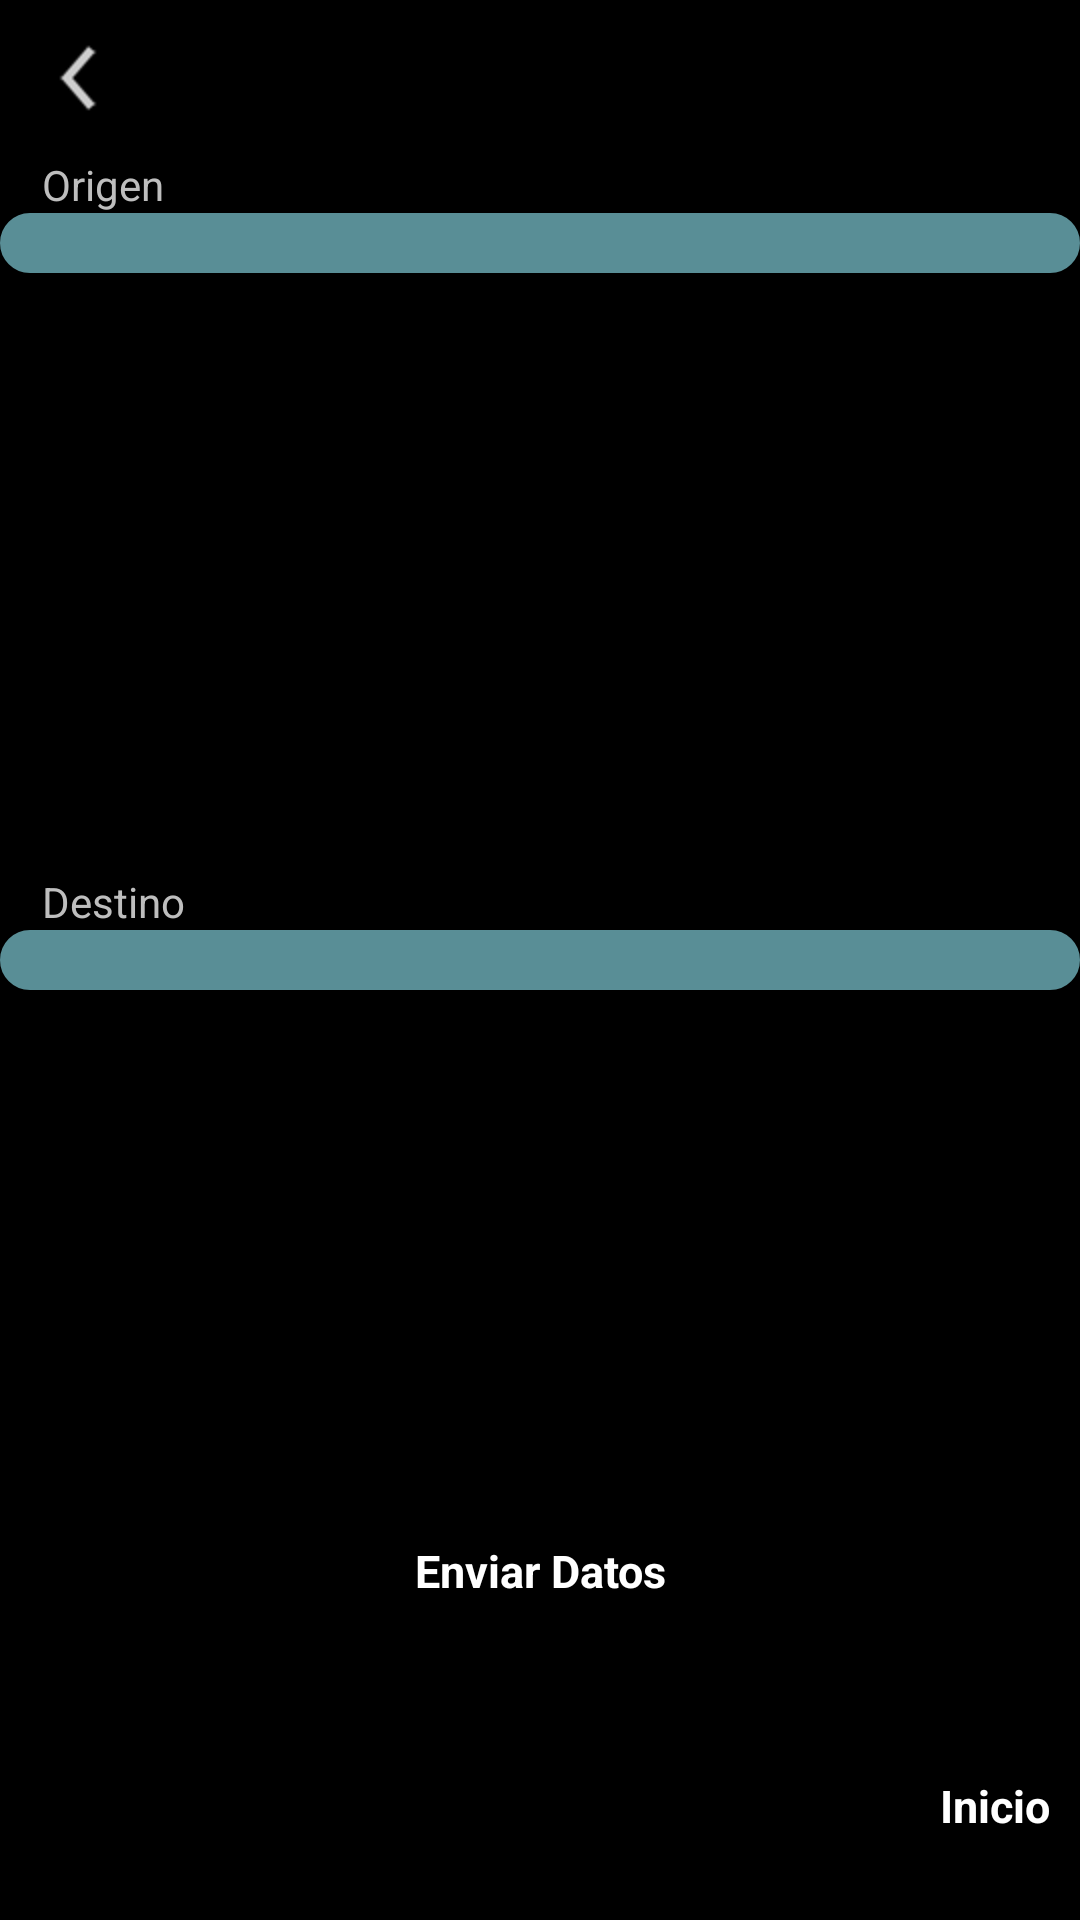

Point at icon controls on the screen. Image size 1080x1920, points as (x,y).
flecha: (78,78)
